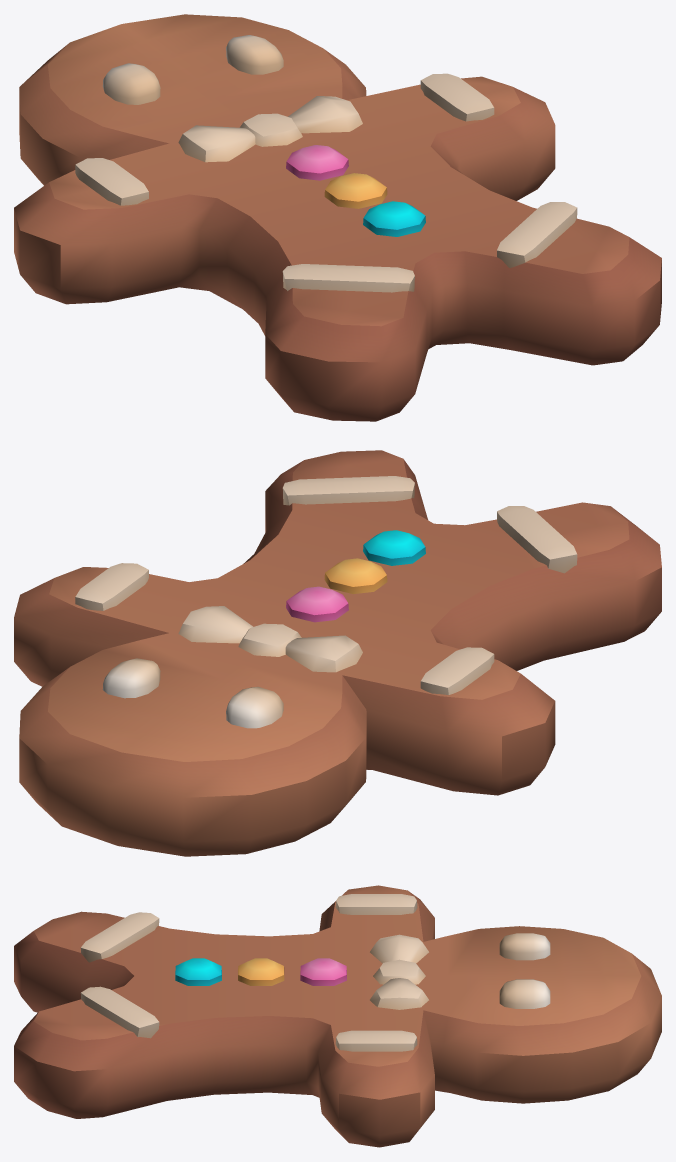
The model's file is gingerbread_man.fbx.
3 renders of one model, top to bottom at view 1: azimuth 30°, elevation 25°; view 2: azimuth 150°, elevation 25°; view 3: azimuth 270°, elevation 25°, orthographic. The views are drawn at different scales.
Visible parts, largest first — view 1: gingerbread_man; view 2: gingerbread_man; view 3: gingerbread_man.
Boxes of the visible parts, box(x1,y1,x2,y2) form: gingerbread_man: box(14, 14, 661, 421); gingerbread_man: box(14, 450, 661, 856); gingerbread_man: box(14, 885, 661, 1147).
Size of the model in its own units: 55.77 by 11.3 by 73.48.
